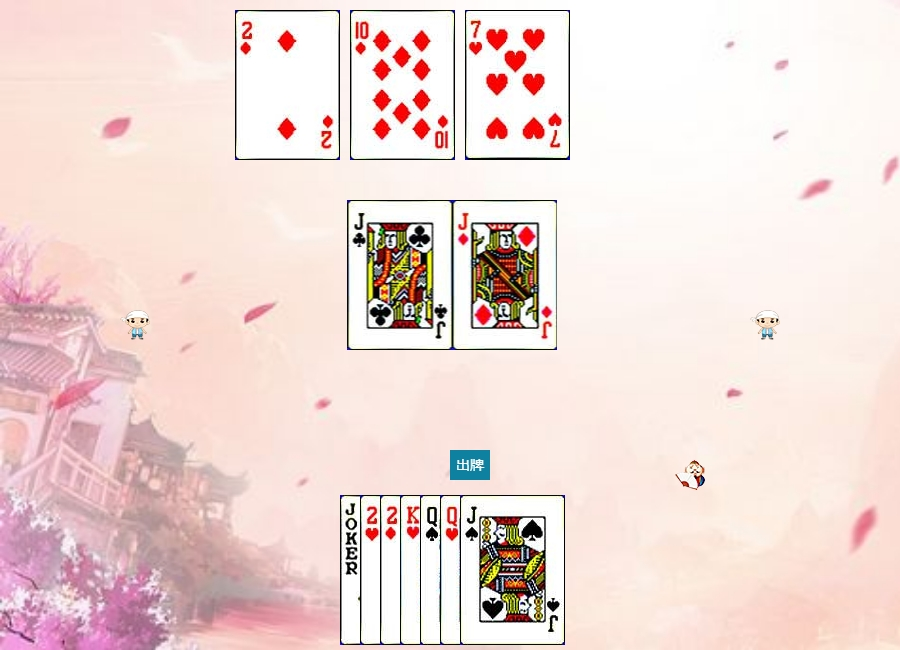10~1: (350, 10, 455, 160)
11~1: (453, 200, 558, 350)
11~2: (348, 200, 453, 350)
11~4: (460, 495, 565, 645)
12~3: (440, 495, 545, 645)
12~4: (420, 495, 525, 645)
13~3: (400, 495, 505, 645)
15~1: (235, 10, 340, 160), (380, 495, 485, 645)
15~3: (360, 495, 465, 645)
17~3: (340, 495, 445, 645)
7~3: (465, 10, 570, 160)
